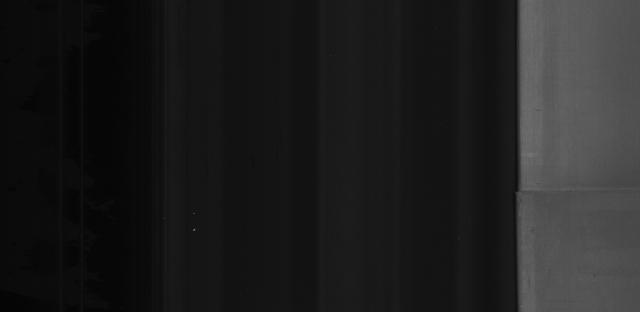welding_line: (495, 178, 630, 204)
